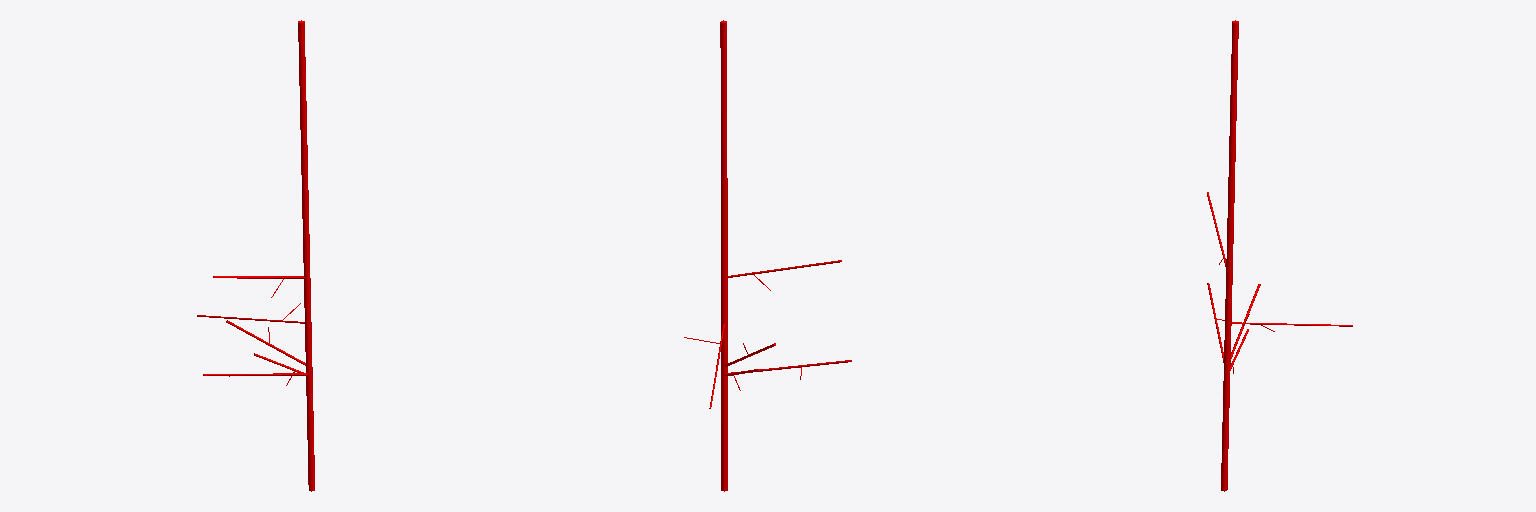
URDF robot description (tree_162.urdf):
<?xml version='1.0' encoding='UTF-8'?>
<robot name="tree_162.urdf">
  <link name="branch_0">
    <inertial>
      <origin xyz="0.0 0.0 0.0" rpy="0.0 -0.0 0.0"/>
      <mass value="0.1"/>
      <inertia ixx="0.001" ixy="0.0" ixz="0.0" iyy="0.001" iyz="0.0" izz="0.001"/>
    </inertial>
    <visual name="branch_0_visual">
      <geometry>
        <cylinder radius="0.0681086483804228" length="10.500772777256527"/>
      </geometry>
      <material name="semantic_material"/>
      <origin xyz="-0.05752471958385037 0.11670452617537329 5.248773970185792" rpy="-1.734723475976807e-18 0.02478388348526622 2.0287551182263392"/>
    </visual>
    <collision name="branch_0_collision">
      <geometry>
        <cylinder radius="0.0681086483804228" length="10.500772777256527"/>
      </geometry>
      <origin xyz="-0.05752471958385037 0.11670452617537329 5.248773970185792" rpy="-1.734723475976807e-18 0.02478388348526622 2.0287551182263392"/>
    </collision>
  </link>
  <link name="branch_1">
    <inertial>
      <origin xyz="0.0 0.0 0.0" rpy="0.0 -0.0 0.0"/>
      <mass value="0.1"/>
      <inertia ixx="0.001" ixy="0.0" ixz="0.0" iyy="0.001" iyz="0.0" izz="0.001"/>
    </inertial>
    <visual name="branch_1_visual">
      <geometry>
        <cylinder radius="0.01864688435744579" length="2.8585665932201785"/>
      </geometry>
      <material name="semantic_material"/>
      <origin xyz="0.0 0.0 0.0" rpy="0.0 -0.0 0.0"/>
    </visual>
    <collision name="branch_1_collision">
      <geometry>
        <cylinder radius="0.01864688435744579" length="2.8585665932201785"/>
      </geometry>
      <origin xyz="0.0 0.0 0.0" rpy="0.0 -0.0 0.0"/>
    </collision>
  </link>
  <link name="branch_2">
    <inertial>
      <origin xyz="0.0 0.0 0.0" rpy="0.0 -0.0 0.0"/>
      <mass value="0.1"/>
      <inertia ixx="0.001" ixy="0.0" ixz="0.0" iyy="0.001" iyz="0.0" izz="0.001"/>
    </inertial>
    <visual name="branch_2_visual">
      <geometry>
        <cylinder radius="0.01" length="0.7496511016442324"/>
      </geometry>
      <material name="semantic_material"/>
      <origin xyz="0.0 0.0 0.0" rpy="0.0 -0.0 0.0"/>
    </visual>
    <collision name="branch_2_collision">
      <geometry>
        <cylinder radius="0.01" length="0.7496511016442324"/>
      </geometry>
      <origin xyz="0.0 0.0 0.0" rpy="0.0 -0.0 0.0"/>
    </collision>
  </link>
  <link name="branch_3">
    <inertial>
      <origin xyz="0.0 0.0 0.0" rpy="0.0 -0.0 0.0"/>
      <mass value="0.1"/>
      <inertia ixx="0.001" ixy="0.0" ixz="0.0" iyy="0.001" iyz="0.0" izz="0.001"/>
    </inertial>
    <visual name="branch_3_visual">
      <geometry>
        <cylinder radius="0.026349315492283365" length="2.031177535249025"/>
      </geometry>
      <material name="semantic_material"/>
      <origin xyz="0.0 0.0 0.0" rpy="0.0 -0.0 0.0"/>
    </visual>
    <collision name="branch_3_collision">
      <geometry>
        <cylinder radius="0.026349315492283365" length="2.031177535249025"/>
      </geometry>
      <origin xyz="0.0 0.0 0.0" rpy="0.0 -0.0 0.0"/>
    </collision>
  </link>
  <link name="branch_4">
    <inertial>
      <origin xyz="0.0 0.0 0.0" rpy="0.0 -0.0 0.0"/>
      <mass value="0.1"/>
      <inertia ixx="0.001" ixy="0.0" ixz="0.0" iyy="0.001" iyz="0.0" izz="0.001"/>
    </inertial>
    <visual name="branch_4_visual">
      <geometry>
        <cylinder radius="0.01" length="0.3605506846090074"/>
      </geometry>
      <material name="semantic_material"/>
      <origin xyz="0.0 0.0 0.0" rpy="0.0 -0.0 0.0"/>
    </visual>
    <collision name="branch_4_collision">
      <geometry>
        <cylinder radius="0.01" length="0.3605506846090074"/>
      </geometry>
      <origin xyz="0.0 0.0 0.0" rpy="0.0 -0.0 0.0"/>
    </collision>
  </link>
  <link name="branch_5">
    <inertial>
      <origin xyz="0.0 0.0 0.0" rpy="0.0 -0.0 0.0"/>
      <mass value="0.1"/>
      <inertia ixx="0.001" ixy="0.0" ixz="0.0" iyy="0.001" iyz="0.0" izz="0.001"/>
    </inertial>
    <visual name="branch_5_visual">
      <geometry>
        <cylinder radius="0.022876965537538894" length="2.6188336549899205"/>
      </geometry>
      <material name="semantic_material"/>
      <origin xyz="0.0 0.0 0.0" rpy="0.0 -0.0 0.0"/>
    </visual>
    <collision name="branch_5_collision">
      <geometry>
        <cylinder radius="0.022876965537538894" length="2.6188336549899205"/>
      </geometry>
      <origin xyz="0.0 0.0 0.0" rpy="0.0 -0.0 0.0"/>
    </collision>
  </link>
  <link name="branch_6">
    <inertial>
      <origin xyz="0.0 0.0 0.0" rpy="0.0 -0.0 0.0"/>
      <mass value="0.1"/>
      <inertia ixx="0.001" ixy="0.0" ixz="0.0" iyy="0.001" iyz="0.0" izz="0.001"/>
    </inertial>
    <visual name="branch_6_visual">
      <geometry>
        <cylinder radius="0.01" length="0.5031589811094872"/>
      </geometry>
      <material name="semantic_material"/>
      <origin xyz="0.0 0.0 0.0" rpy="0.0 -0.0 0.0"/>
    </visual>
    <collision name="branch_6_collision">
      <geometry>
        <cylinder radius="0.01" length="0.5031589811094872"/>
      </geometry>
      <origin xyz="0.0 0.0 0.0" rpy="0.0 -0.0 0.0"/>
    </collision>
  </link>
  <link name="branch_7">
    <inertial>
      <origin xyz="0.0 0.0 0.0" rpy="0.0 -0.0 0.0"/>
      <mass value="0.1"/>
      <inertia ixx="0.001" ixy="0.0" ixz="0.0" iyy="0.001" iyz="0.0" izz="0.001"/>
    </inertial>
    <visual name="branch_7_visual">
      <geometry>
        <cylinder radius="0.023211172720597063" length="2.8582576562883815"/>
      </geometry>
      <material name="semantic_material"/>
      <origin xyz="0.0 0.0 0.0" rpy="0.0 -0.0 0.0"/>
    </visual>
    <collision name="branch_7_collision">
      <geometry>
        <cylinder radius="0.023211172720597063" length="2.8582576562883815"/>
      </geometry>
      <origin xyz="0.0 0.0 0.0" rpy="0.0 -0.0 0.0"/>
    </collision>
  </link>
  <link name="branch_8">
    <inertial>
      <origin xyz="0.0 0.0 0.0" rpy="0.0 -0.0 0.0"/>
      <mass value="0.1"/>
      <inertia ixx="0.001" ixy="0.0" ixz="0.0" iyy="0.001" iyz="0.0" izz="0.001"/>
    </inertial>
    <visual name="branch_8_visual">
      <geometry>
        <cylinder radius="0.01" length="0.39201840116211617"/>
      </geometry>
      <material name="semantic_material"/>
      <origin xyz="0.0 0.0 0.0" rpy="0.0 -0.0 0.0"/>
    </visual>
    <collision name="branch_8_collision">
      <geometry>
        <cylinder radius="0.01" length="0.39201840116211617"/>
      </geometry>
      <origin xyz="0.0 0.0 0.0" rpy="0.0 -0.0 0.0"/>
    </collision>
  </link>
  <link name="branch_9">
    <inertial>
      <origin xyz="0.0 0.0 0.0" rpy="0.0 -0.0 0.0"/>
      <mass value="0.1"/>
      <inertia ixx="0.001" ixy="0.0" ixz="0.0" iyy="0.001" iyz="0.0" izz="0.001"/>
    </inertial>
    <visual name="branch_9_visual">
      <geometry>
        <cylinder radius="0.02436587370649834" length="1.2634983460784535"/>
      </geometry>
      <material name="semantic_material"/>
      <origin xyz="0.0 0.0 0.0" rpy="0.0 -0.0 0.0"/>
    </visual>
    <collision name="branch_9_collision">
      <geometry>
        <cylinder radius="0.02436587370649834" length="1.2634983460784535"/>
      </geometry>
      <origin xyz="0.0 0.0 0.0" rpy="0.0 -0.0 0.0"/>
    </collision>
  </link>
  <link name="branch_10">
    <inertial>
      <origin xyz="0.0 0.0 0.0" rpy="0.0 -0.0 0.0"/>
      <mass value="0.1"/>
      <inertia ixx="0.001" ixy="0.0" ixz="0.0" iyy="0.001" iyz="0.0" izz="0.001"/>
    </inertial>
    <visual name="branch_10_visual">
      <geometry>
        <cylinder radius="0.01" length="0.3748041720156126"/>
      </geometry>
      <material name="semantic_material"/>
      <origin xyz="0.0 0.0 0.0" rpy="0.0 -0.0 0.0"/>
    </visual>
    <collision name="branch_10_collision">
      <geometry>
        <cylinder radius="0.01" length="0.3748041720156126"/>
      </geometry>
      <origin xyz="0.0 0.0 0.0" rpy="0.0 -0.0 0.0"/>
    </collision>
  </link>
  <joint name="joint_0_1" type="fixed">
    <parent link="branch_0"/>
    <child link="branch_1"/>
    <axis xyz="1. 0. 0."/>
    <origin xyz="-0.6145136524449338 1.3578527576897546 3.4456159241567637" rpy="-3.137448294467715 1.3600542429204194 -1.1437647531195105"/>
  </joint>
  <joint name="joint_0_3" type="fixed">
    <parent link="branch_0"/>
    <child link="branch_3"/>
    <axis xyz="1. 0. 0."/>
    <origin xyz="-0.8113493757142031 0.39148286197242377 3.3305050474911204" rpy="0.029809757678052568 0.9874200851819525 2.777661573454412"/>
  </joint>
  <joint name="joint_0_5" type="fixed">
    <parent link="branch_0"/>
    <child link="branch_5"/>
    <axis xyz="1. 0. 0."/>
    <origin xyz="-1.2852455366046913 -0.11621179619541808 5.144883140074486" rpy="0.08192986695044081 1.2748496301424765 -2.8777082648612504"/>
  </joint>
  <joint name="joint_0_7" type="fixed">
    <parent link="branch_0"/>
    <child link="branch_7"/>
    <axis xyz="1. 0. 0."/>
    <origin xyz="-1.3903626191867293 -0.13286321123276107 2.9822694584169236" rpy="0.0864523130443374 1.294150482879285 -2.9127499904960654"/>
  </joint>
  <joint name="joint_0_9" type="fixed">
    <parent link="branch_0"/>
    <child link="branch_9"/>
    <axis xyz="1. 0. 0."/>
    <origin xyz="-0.5525232872635111 0.2754778012691106 2.8383343865839823" rpy="0.0376136774495844 1.1178678798474655 2.7886402476439742"/>
  </joint>
  <joint name="joint_1_2" type="fixed">
    <parent link="branch_0"/>
    <child link="branch_2"/>
    <axis xyz="1. 0. 0."/>
    <origin xyz="0.010800374737434377 0.8689798455687893 3.6590929430373293" rpy="-1.4076685507421967 -0.21273314988132008 -1.1357171797380627"/>
  </joint>
  <joint name="joint_3_4" type="fixed">
    <parent link="branch_0"/>
    <child link="branch_4"/>
    <axis xyz="1. 0. 0."/>
    <origin xyz="-0.7499891966839072 0.4467140959851871 3.4702792487599927" rpy="-0.4161653220508846 0.10166639254857594 -0.1505293296342634"/>
  </joint>
  <joint name="joint_5_6" type="fixed">
    <parent link="branch_0"/>
    <child link="branch_6"/>
    <axis xyz="1. 0. 0."/>
    <origin xyz="-0.8278458653569771 -0.05067969691223423 4.78149109618434" rpy="3.02951952447778 0.8453152352404611 0.11684938327259134"/>
  </joint>
  <joint name="joint_7_8" type="fixed">
    <parent link="branch_0"/>
    <child link="branch_8"/>
    <axis xyz="1. 0. 0."/>
    <origin xyz="-1.769574235140689 -0.009019940939265036 3.0048274298678805" rpy="-1.90880900580874 0.35948221529755914 0.3635035208206491"/>
  </joint>
  <joint name="joint_9_10" type="fixed">
    <parent link="branch_0"/>
    <child link="branch_10"/>
    <axis xyz="1. 0. 0."/>
    <origin xyz="-0.3926539985695885 0.1857163710546766 2.5432915873347217" rpy="3.022655682765947 0.522725580999141 -0.4040895508824058"/>
  </joint>
  <material name="semantic_material">
    <color rgba="1. 0. 0. 1."/>
  </material>
</robot>

--- Facts derived from the render (not from the file) ---
Views: 3 orthographic renders of the robot side by side, from view 1: azimuth 30°, elevation 25°; view 2: azimuth 150°, elevation 25°; view 3: azimuth 270°, elevation 25°.
Model tree_162.urdf with 11 links and 10 joints (10 fixed), rooted at branch_0, posed every joint at zero.
Links seen in each view (by area): view 1: branch_0; view 2: branch_0; view 3: branch_0.
Link boxes in pixels (x1,y1,x2,y2): branch_0: (298,20,314,491); branch_0: (720,20,727,491); branch_0: (1221,20,1238,491).
Bounding box of the posed robot: 3.1 × 3 × 10.5 m (x, y, z).
Geometry: primitives only (box / cylinder / sphere), no mesh files.
